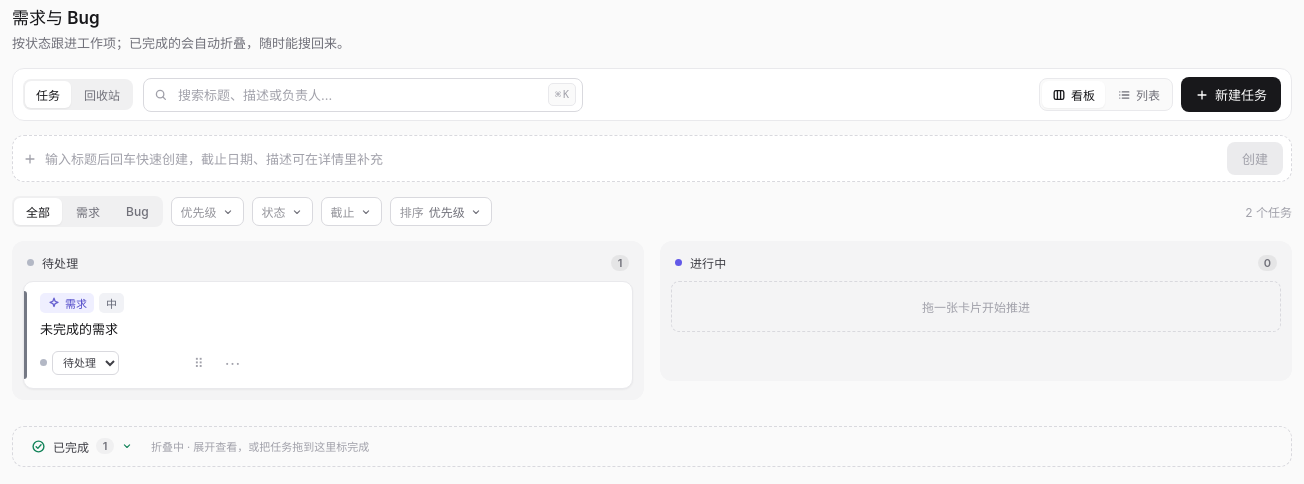
it: TaskBoard › finds finished tasks through search
Type "已完成" into the search field named "搜索任务" at point(358, 94), box [176, 86, 540, 104]
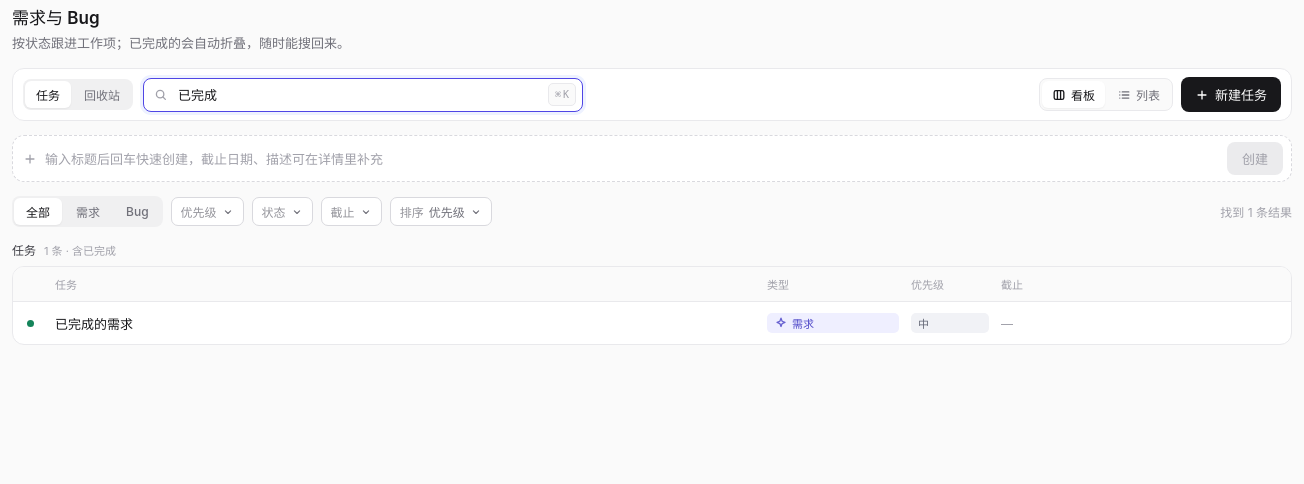
Expected: the button "已完成的需求" is shown, [55, 314, 755, 332]
Expected: the button "未完成的需求" is gone
